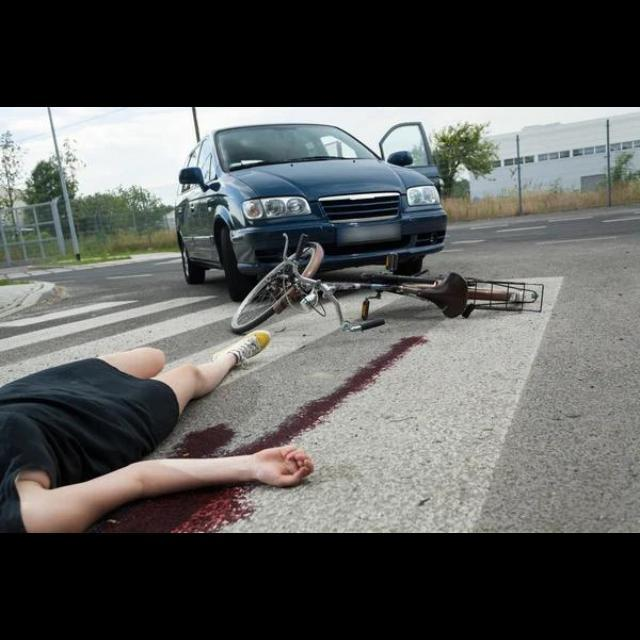blood: (230, 337, 428, 456), (90, 487, 254, 534), (174, 425, 235, 459)
